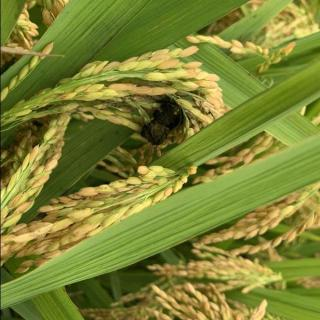Gosong-Palsu: (140, 101, 182, 149)
